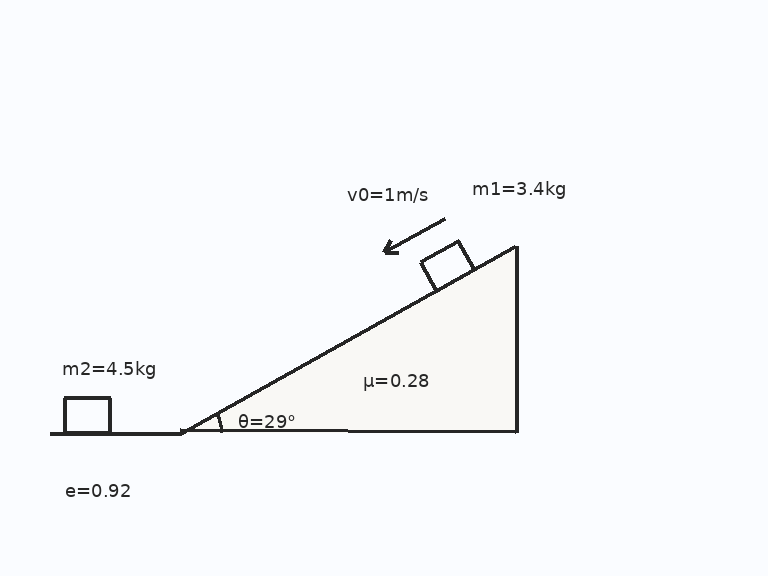block: (418, 239, 476, 293), (62, 396, 112, 434)
ramp: (179, 244, 518, 434)
